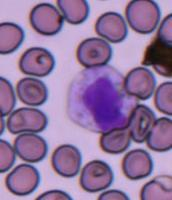M: (66, 64, 136, 133)
